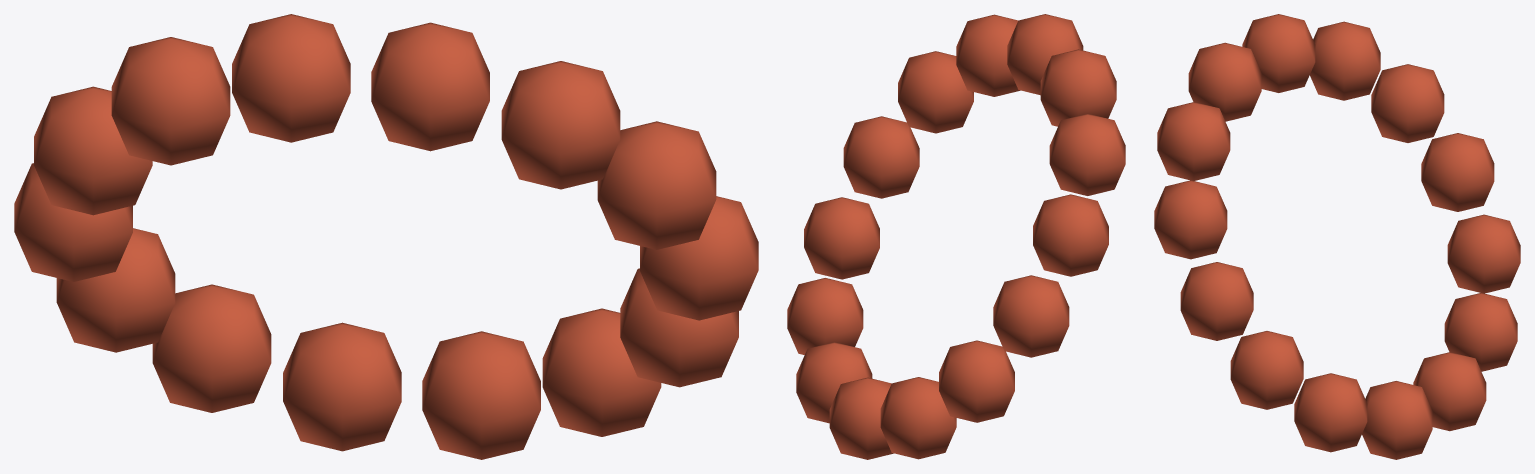
Rendered from coral_bracelet_f.glb.
3 renders of one model, left to right at view 1: azimuth 30°, elevation 25°; view 2: azimuth 150°, elevation 25°; view 3: azimuth 270°, elevation 25°, orthographic. The views are drawn at different scales.
Parts seen in each view (by area): view 1: hair; view 2: hair; view 3: hair.
Part boxes in pixels (x1=…): hair: x1=14, y1=14, x2=758, y2=459; hair: x1=787, y1=14, x2=1125, y2=459; hair: x1=1154, y1=14, x2=1520, y2=459.
Size of the model in its own units: 0.0697 by 0.0655 by 0.0608.
